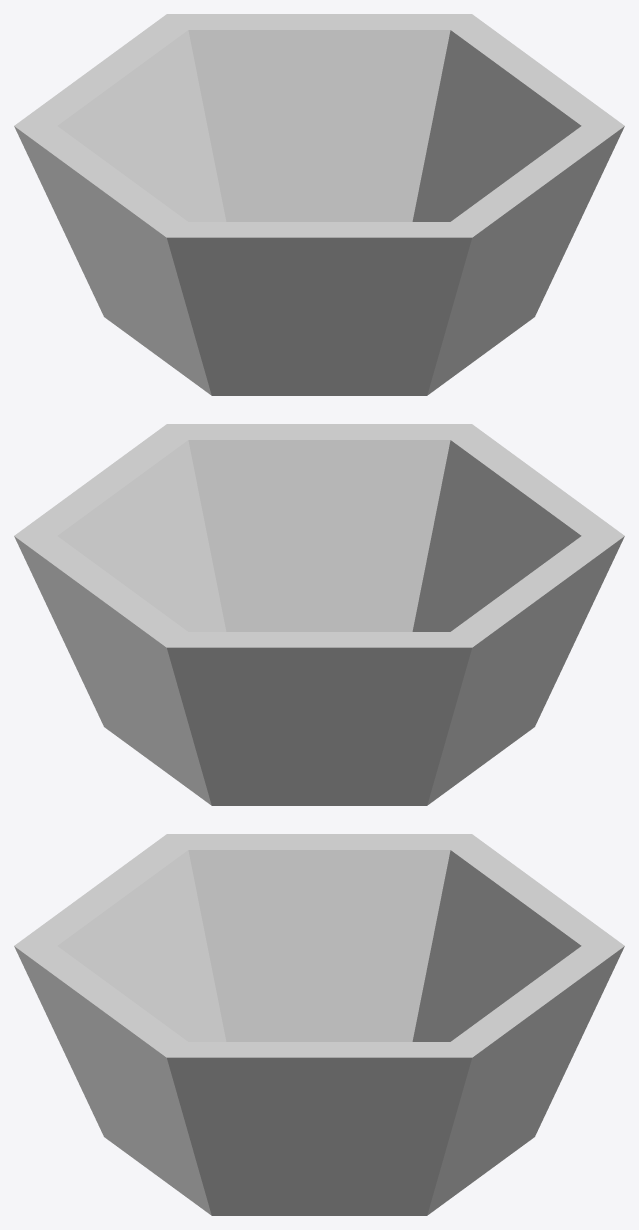
Rendered from Bowl_001.fbx.
3 renders of one model, top to bottom at view 1: azimuth 30°, elevation 25°; view 2: azimuth 150°, elevation 25°; view 3: azimuth 270°, elevation 25°, orthographic.
Parts seen in each view (by area): view 1: Bowl.001; view 2: Bowl.001; view 3: Bowl.001.
Part boxes in pixels (x1,y1,x2,y2): Bowl.001: (14, 14, 624, 395); Bowl.001: (14, 424, 624, 805); Bowl.001: (14, 834, 624, 1215).
Bounding box in the file's own units: 0.2835 × 0.113 × 0.3274.
